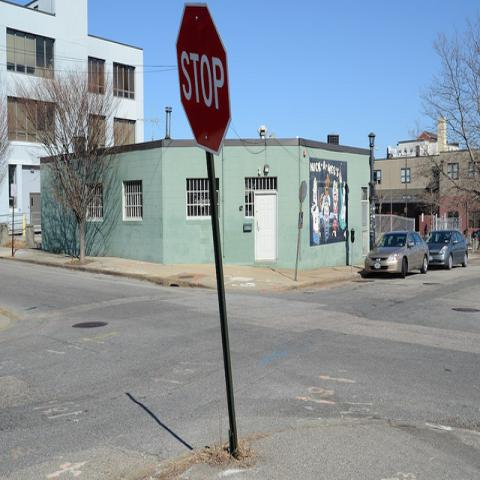car: (364, 230, 430, 279), (425, 230, 469, 270)
